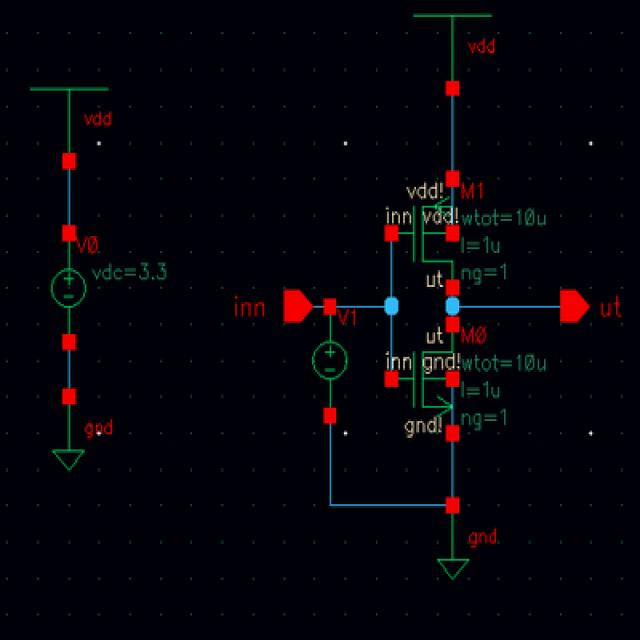nmos: (391, 326, 463, 450)
pmos: (384, 180, 460, 297)
vdc: (39, 226, 94, 362), (311, 310, 353, 426)
